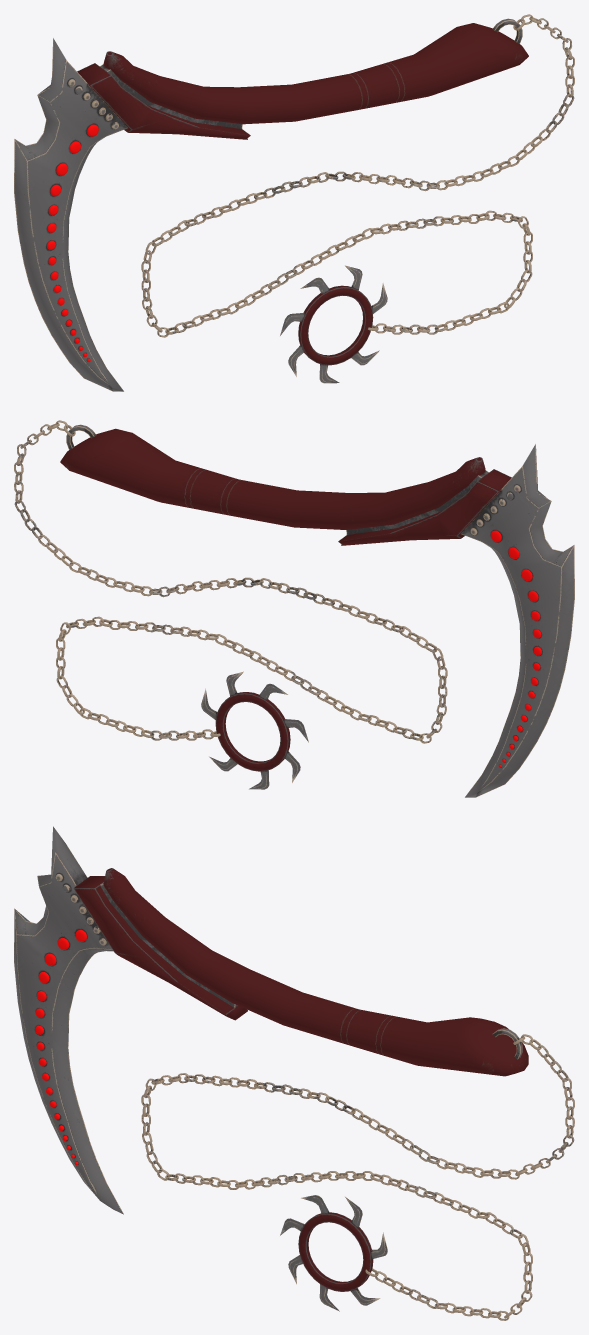
The model's file is sickle.glb.
The picture shows the model from 3 angles, top to bottom: view 1: azimuth 30°, elevation 25°; view 2: azimuth 150°, elevation 25°; view 3: azimuth 330°, elevation 25°; orthographic projection.
Visible parts, largest first — view 1: Object_2, Object_4, Object_3, Object_5; view 2: Object_2, Object_4, Object_3, Object_5; view 3: Object_2, Object_4, Object_3, Object_5.
Part boxes in pixels (bbox=[...]): Object_2: bbox=[14, 23, 532, 391]; Object_4: bbox=[157, 14, 574, 365]; Object_3: bbox=[141, 84, 573, 332]; Object_5: bbox=[367, 56, 574, 334]; Object_2: bbox=[56, 428, 574, 797]; Object_4: bbox=[14, 420, 431, 771]; Object_3: bbox=[15, 490, 447, 738]; Object_5: bbox=[14, 462, 220, 740]; Object_2: bbox=[14, 826, 532, 1314]; Object_4: bbox=[157, 1028, 574, 1315]; Object_3: bbox=[141, 1074, 573, 1318]; Object_5: bbox=[365, 1097, 574, 1320].
Size of the model in its own units: 89.88 by 63.69 by 10.08.
1 material, 1 textured.
